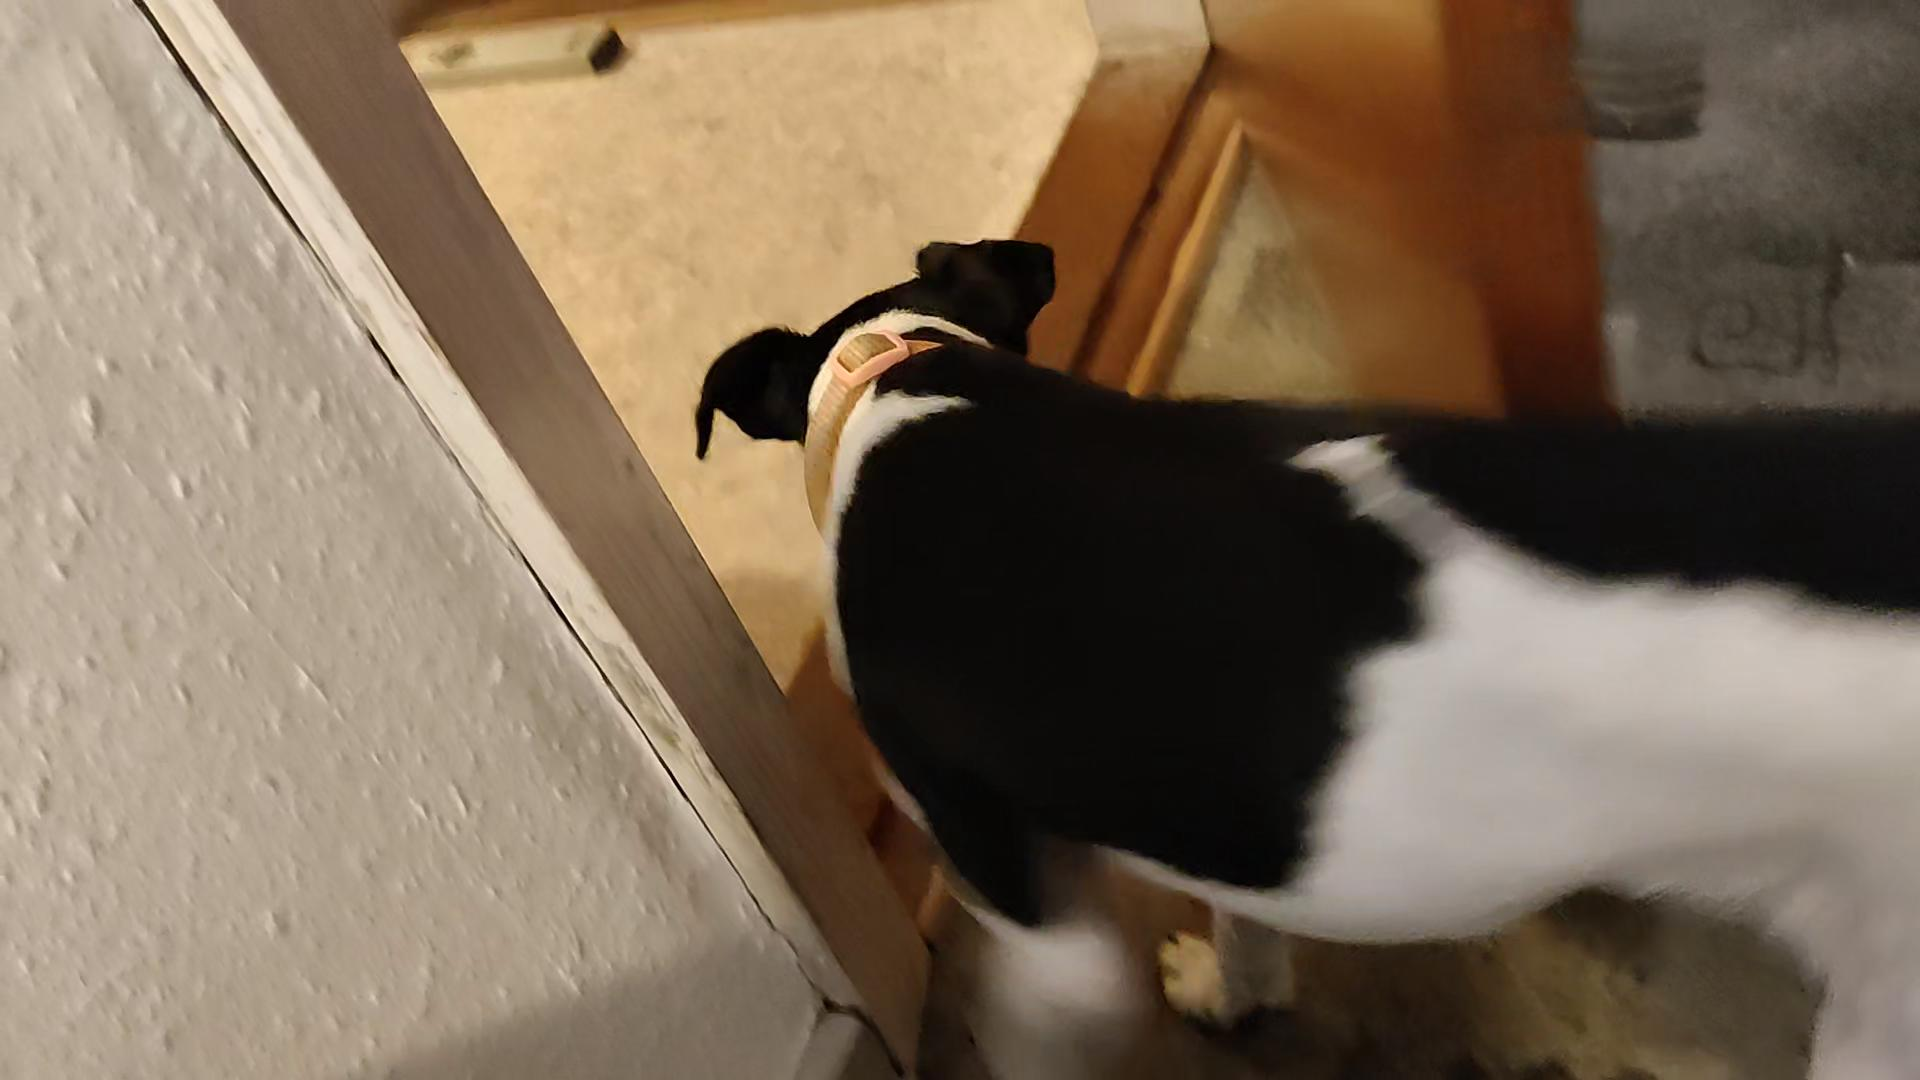Dog: (692, 229, 1919, 1079)
